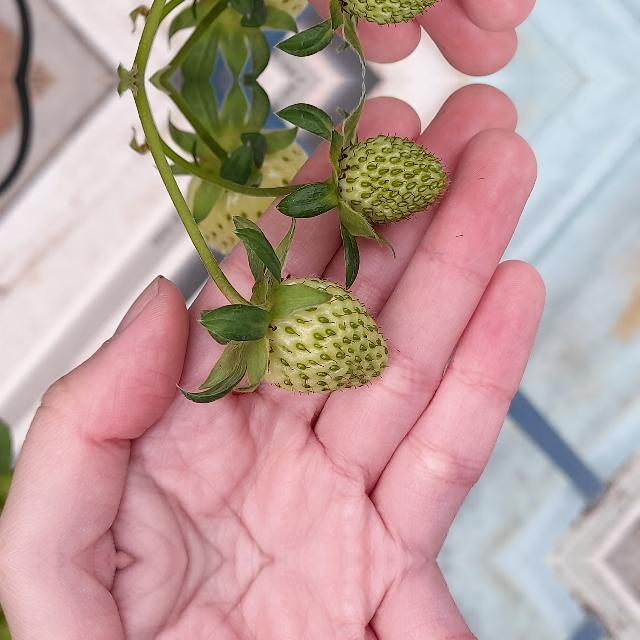Health_25: (263, 276, 387, 394), (327, 137, 447, 219), (327, 0, 447, 23)
